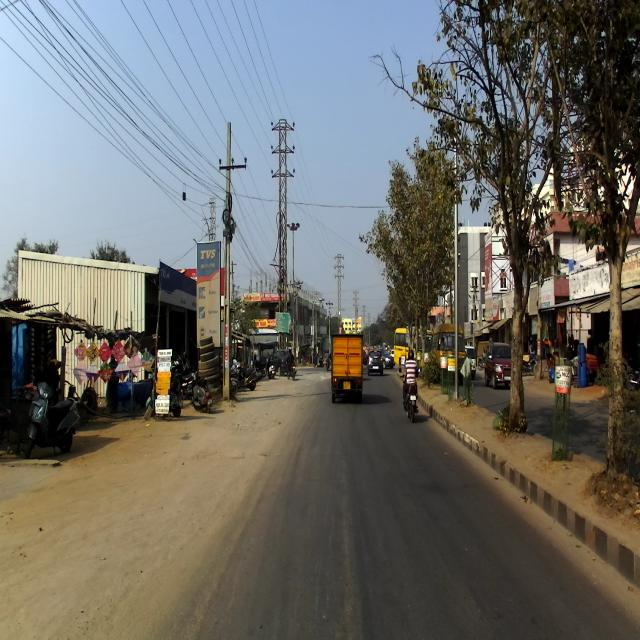electric pole ahead at: (216, 115, 245, 398)
motorcycle ahead at: (26, 376, 78, 455)
